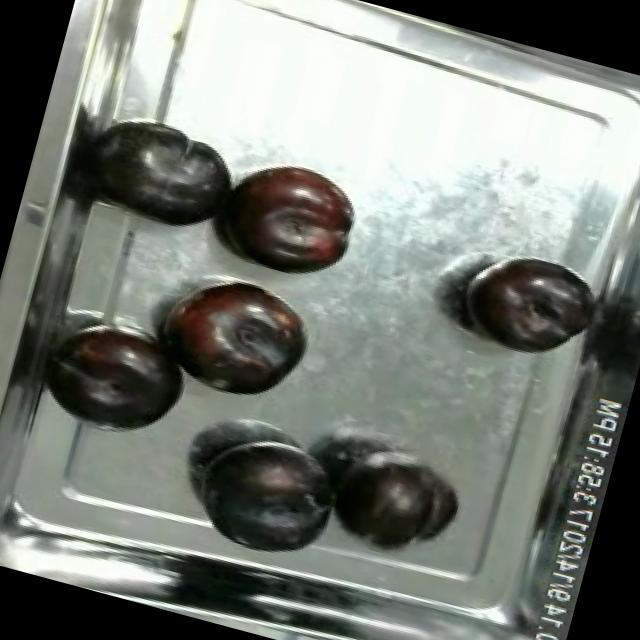Fruit: (142, 254, 330, 415), (181, 419, 355, 572), (204, 142, 374, 293), (78, 100, 248, 246), (38, 306, 202, 452), (454, 240, 604, 368), (324, 440, 470, 564)
